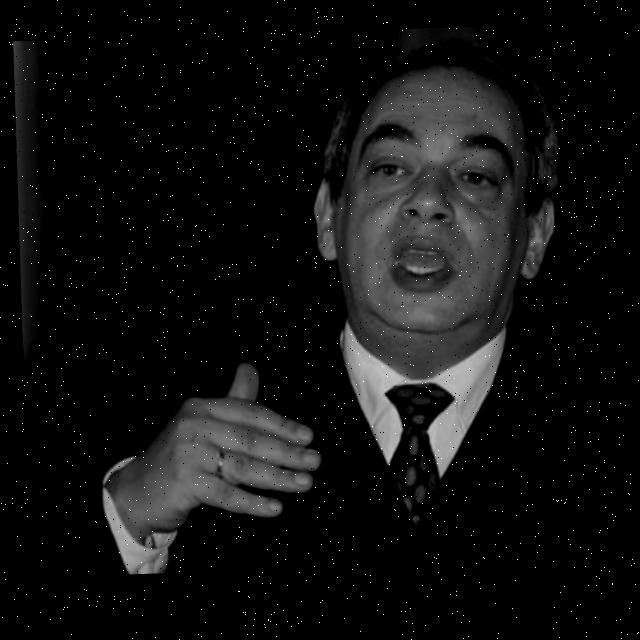face: (297, 60, 577, 357)
